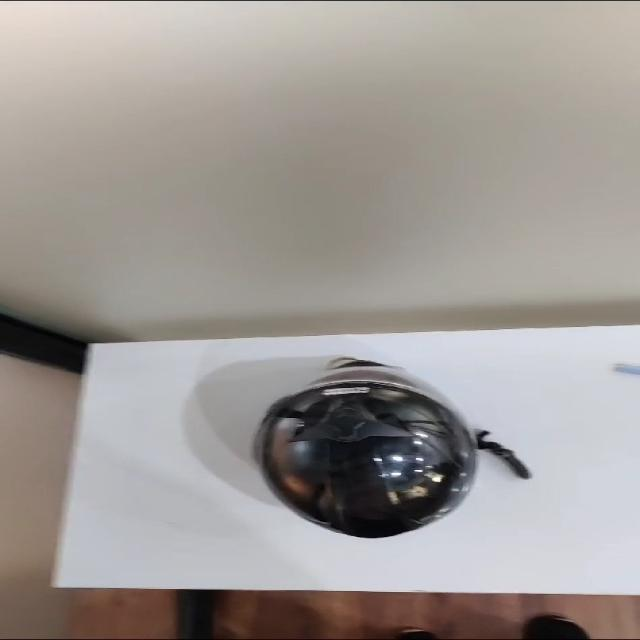helmet: (255, 358, 529, 537)
